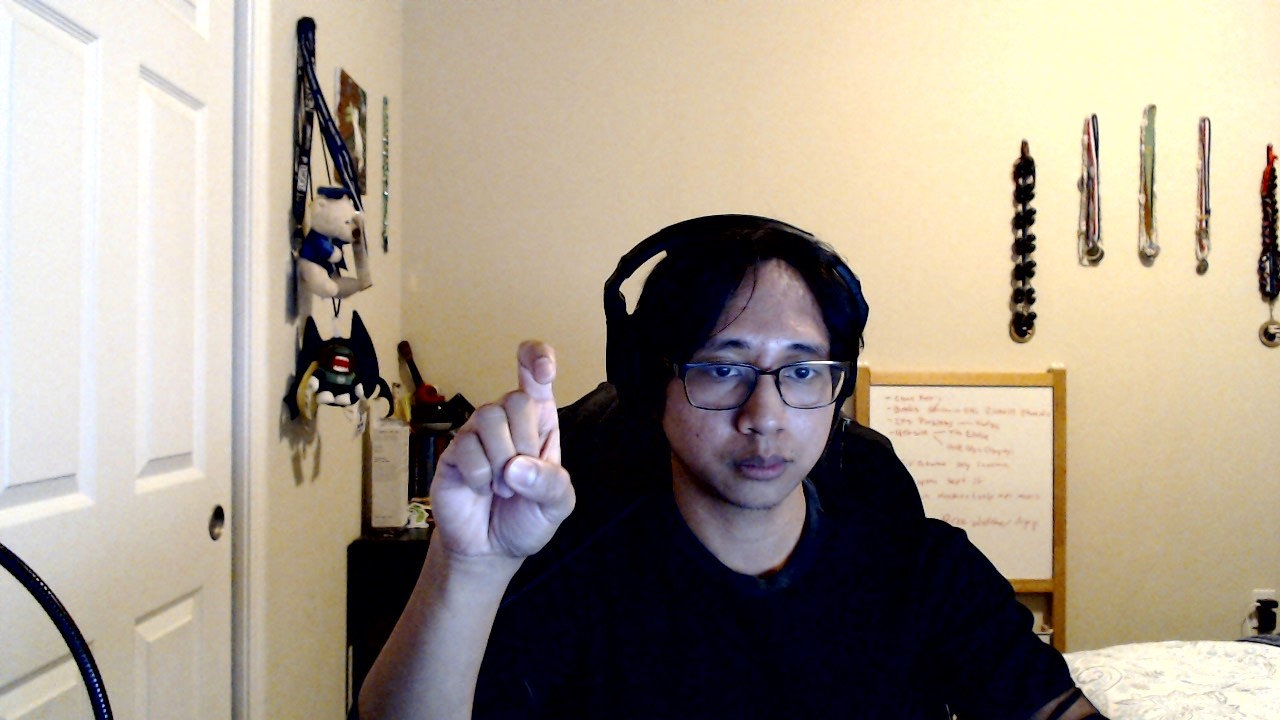x: (424, 336, 579, 564)
